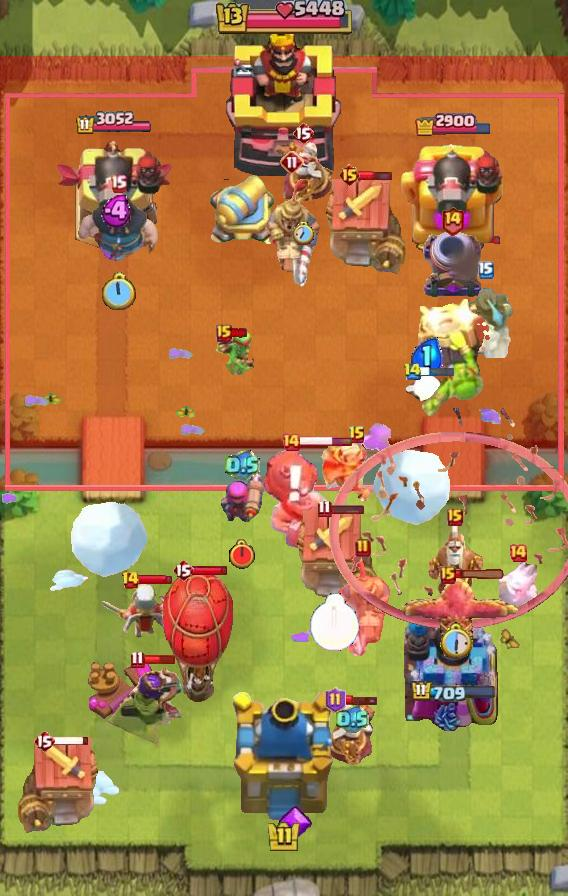barbarian-hut: (104, 662, 190, 748)
bat: (496, 560, 540, 606), (402, 372, 450, 402)
cannon-cart: (162, 566, 234, 706)
clock: (213, 0, 355, 38)
electro-spirit: (409, 336, 443, 375), (101, 195, 135, 227), (224, 450, 259, 481), (335, 705, 368, 734)
elixir: (308, 592, 359, 651), (100, 272, 136, 313), (438, 622, 474, 660), (228, 539, 256, 570), (293, 223, 314, 246)
elixir-collector: (427, 523, 483, 619), (270, 138, 336, 208), (322, 696, 382, 770)
emote: (454, 568, 506, 580), (299, 437, 353, 448), (420, 366, 457, 379), (359, 170, 394, 183), (329, 503, 365, 515), (137, 574, 173, 586), (343, 694, 379, 706), (191, 565, 228, 576), (54, 735, 91, 746), (142, 654, 176, 665), (230, 327, 249, 339)
giant-snowball: (214, 329, 256, 375)
goblin-cage: (420, 230, 484, 300)
inferno-dragon: (457, 282, 515, 358)
king-tower: (224, 29, 344, 181), (227, 692, 341, 826)
mother-witch: (402, 576, 520, 650)
poison: (99, 578, 187, 652)
ram-rider: (261, 177, 323, 291), (333, 550, 393, 660)
royal-hog: (76, 196, 160, 274)
royal-recruit: (204, 174, 278, 250)
selected: (411, 680, 498, 704), (414, 112, 494, 137), (75, 112, 153, 137)
skeleton-barrel: (328, 408, 567, 631)
skeleton-king: (321, 438, 393, 506)
skeleton-king-skill: (277, 805, 312, 841)
sparky: (320, 178, 406, 276), (291, 509, 377, 607), (18, 737, 104, 835)
text: (440, 205, 465, 236), (280, 150, 304, 174), (338, 163, 361, 187), (325, 687, 346, 713), (292, 121, 314, 145), (172, 558, 194, 582), (33, 729, 55, 753), (281, 432, 301, 452), (508, 543, 528, 563), (402, 363, 422, 382), (120, 570, 139, 590), (348, 425, 366, 445), (355, 538, 371, 558), (109, 175, 126, 193), (478, 261, 494, 279), (216, 324, 232, 342), (447, 508, 463, 526), (440, 566, 456, 584), (317, 498, 332, 517), (131, 651, 146, 669)
tombstone: (219, 472, 265, 528)
tower-bar: (53, 138, 175, 256), (404, 593, 502, 731), (399, 138, 507, 256)
wall-breaker: (370, 447, 452, 526), (69, 498, 151, 577)
wizard: (260, 447, 346, 557)
x-bow: (412, 296, 492, 422)
